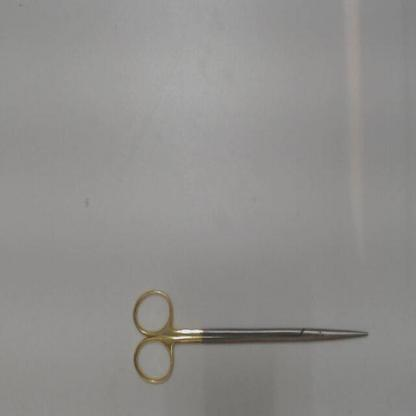7 Metzenbaum Scissors: (128, 283, 371, 391)
